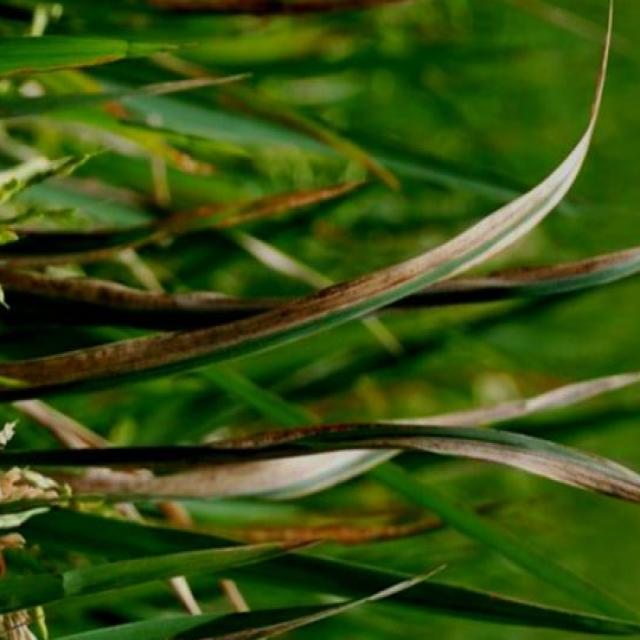Bacterial_Leaf_Blight: (20, 224, 480, 394), (392, 398, 640, 514), (0, 622, 297, 640)
